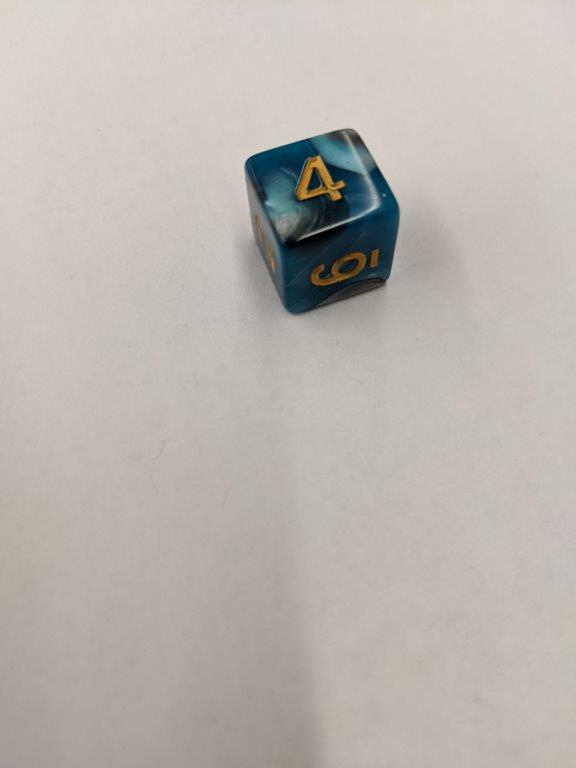d6-4: (243, 128, 400, 317)
